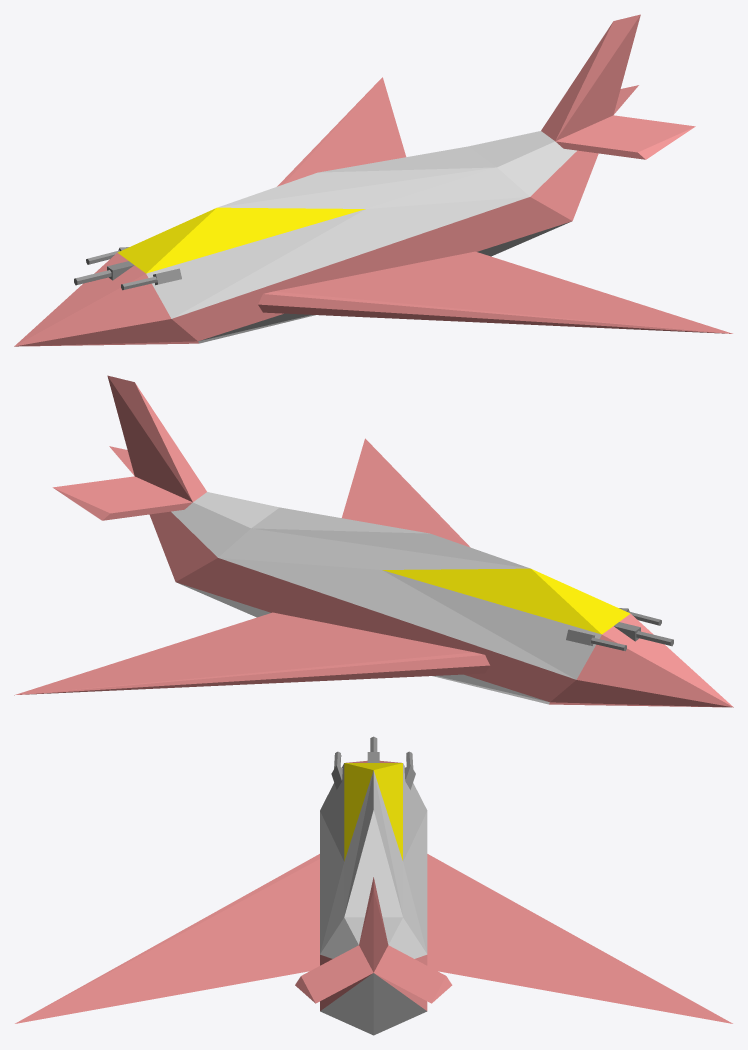
File: Falcon Dart.fbx
3 renders of one model, top to bottom at view 1: azimuth 30°, elevation 25°; view 2: azimuth 150°, elevation 25°; view 3: azimuth 270°, elevation 25°, orthographic. The views are drawn at different scales.
Visible parts, largest first — view 1: Falcon Dart; view 2: Falcon Dart; view 3: Falcon Dart.
Part boxes in pixels (left/top/right/bottom): Falcon Dart: left=14, top=14, right=732, bottom=346; Falcon Dart: left=14, top=375, right=733, bottom=707; Falcon Dart: left=15, top=736, right=732, bottom=1035.
Size of the model in its own units: 869 by 264 by 809.
